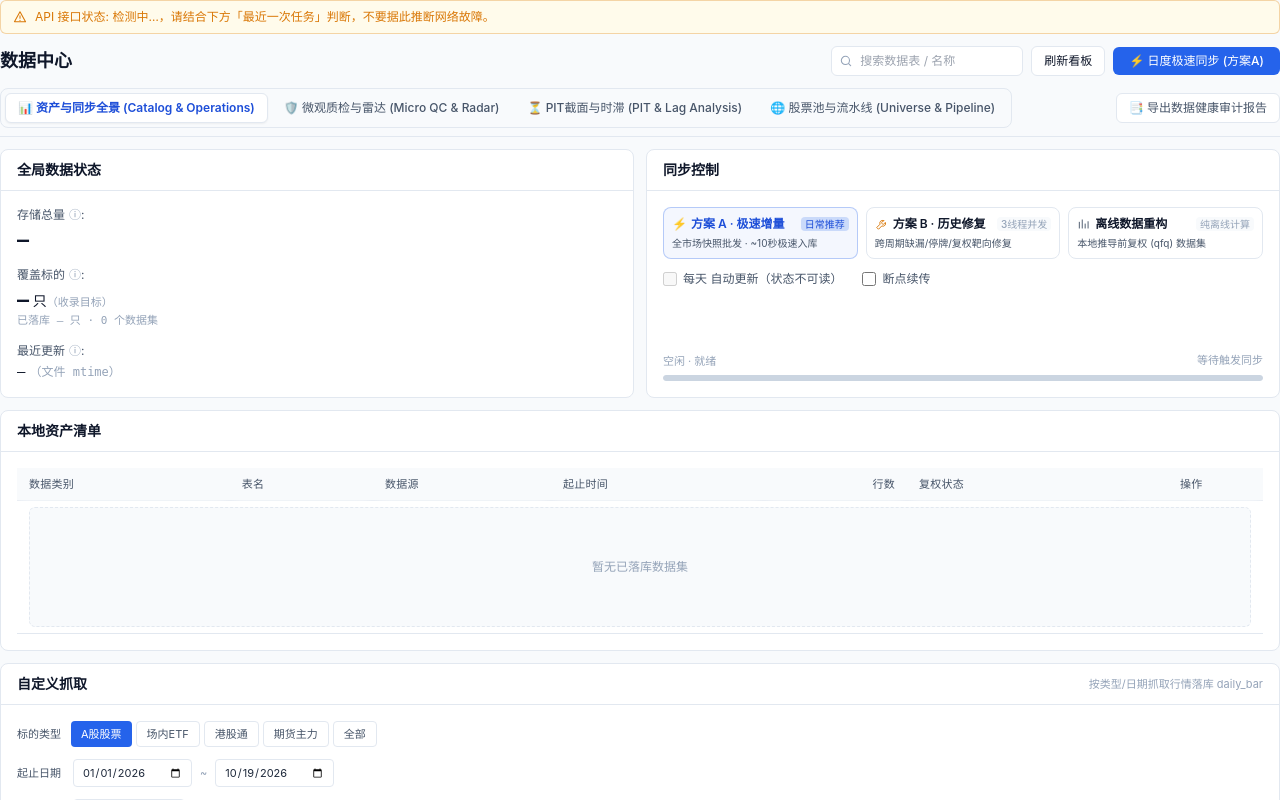
Test: 数据中心进化工作台 (DataCenter Evolution) › 切换到「PIT截面与时滞」Tab 成功渲染披露时滞与分位统计
Click the button "⏳ PIT截面与时滞 (PIT & Lag Analysis)" at (635, 108), box left=516, top=93, right=754, bottom=123
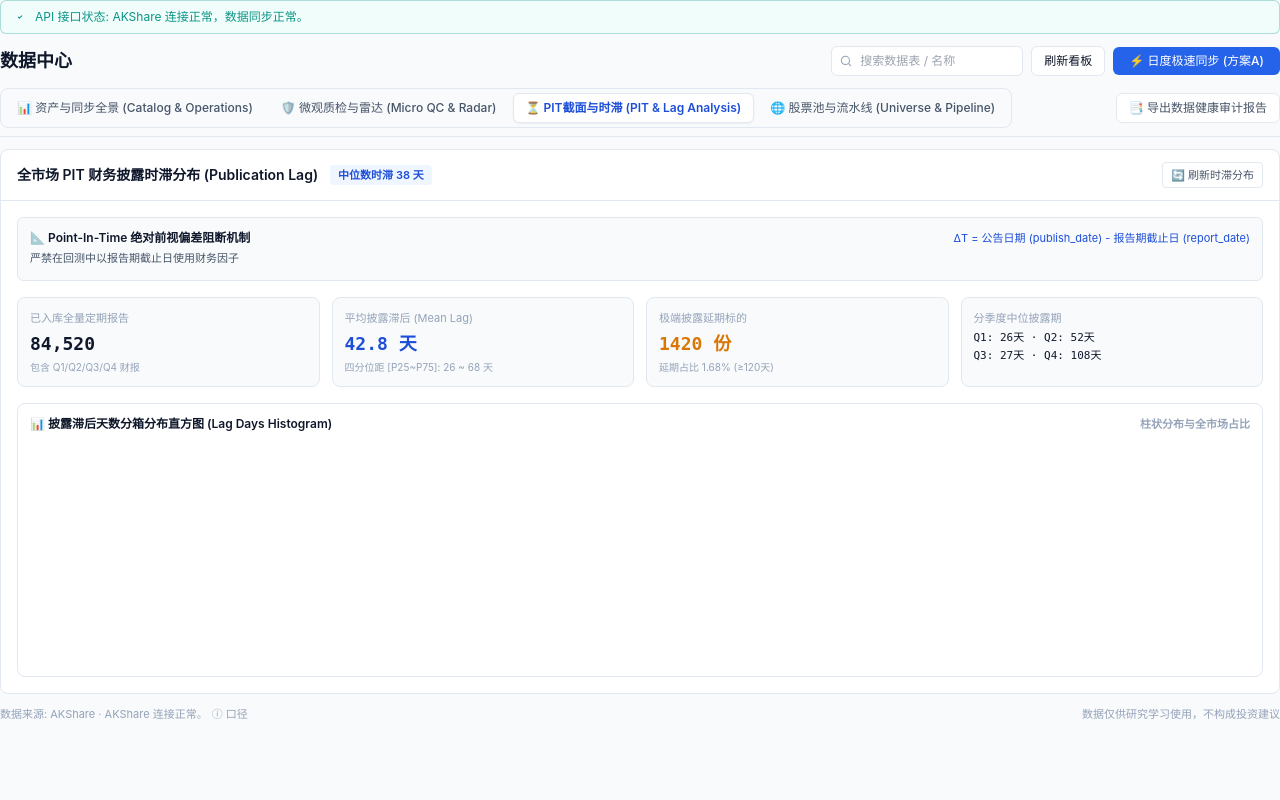
Check: the heading "全市场 PIT 财务披露时滞分布 (Publication Lag)" is shown, box left=17, top=165, right=318, bottom=185
Check: the text "中位数时滞 38 天" is shown, box left=330, top=165, right=432, bottom=185
